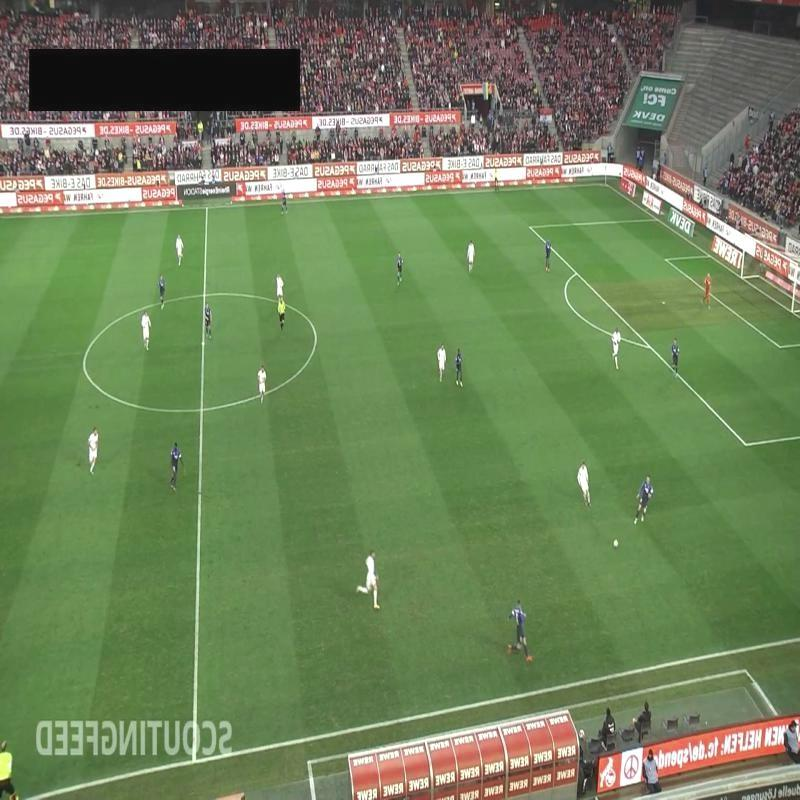1: (598, 177, 612, 191)
10: (568, 266, 582, 280)
11: (642, 340, 656, 354)
12: (740, 438, 754, 452)
13: (200, 200, 213, 214)
14: (198, 288, 212, 301)
15: (195, 400, 209, 415)
16: (184, 750, 204, 774)
2: (650, 212, 664, 226)
3: (702, 248, 716, 262)
7: (659, 253, 673, 266)
8: (773, 340, 787, 354)
9: (524, 221, 538, 235)
c: (74, 355, 92, 375), (309, 328, 323, 342)
